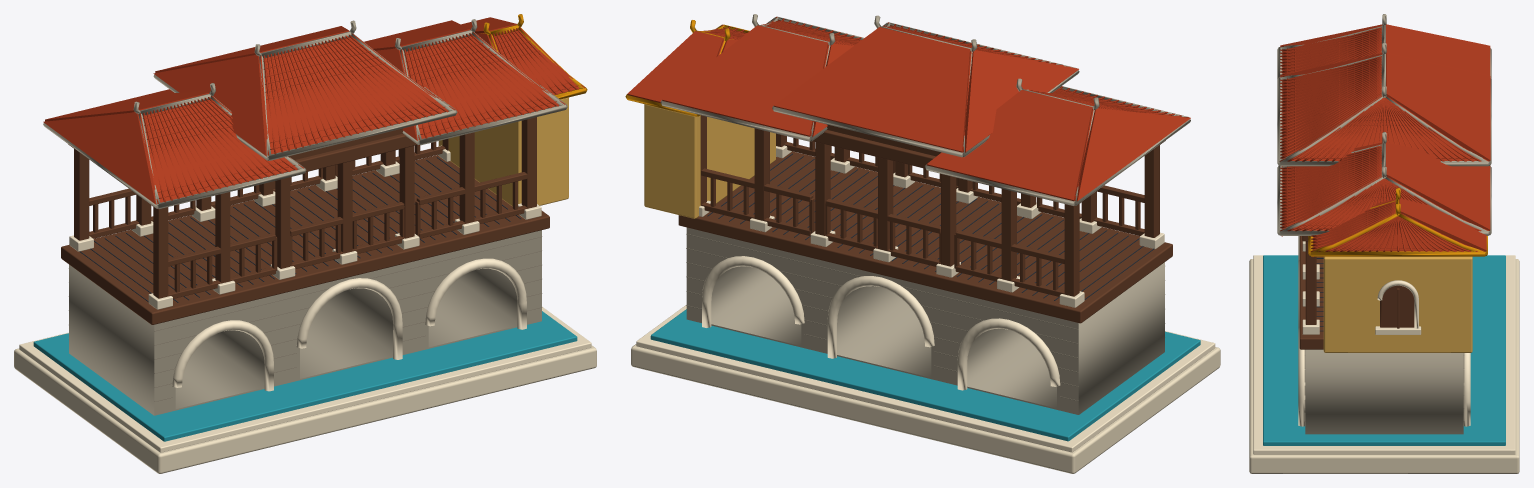
File: hoi-an.glb
3 views of the same model, side by side, from view 1: azimuth 30°, elevation 25°; view 2: azimuth 150°, elevation 25°; view 3: azimuth 270°, elevation 25° (orthographic). The views are drawn at different scales.
Parts seen in each view (by area): view 1: LANDMARK_hoi-an.001; view 2: LANDMARK_hoi-an.001; view 3: LANDMARK_hoi-an.001.
Boxes of the visible parts, x1,y1,x2,y2 form: LANDMARK_hoi-an.001: (14, 14, 596, 473); LANDMARK_hoi-an.001: (625, 14, 1220, 473); LANDMARK_hoi-an.001: (1249, 14, 1519, 473).
Size of the model in its own units: 1.42 by 0.9853 by 0.7768.
